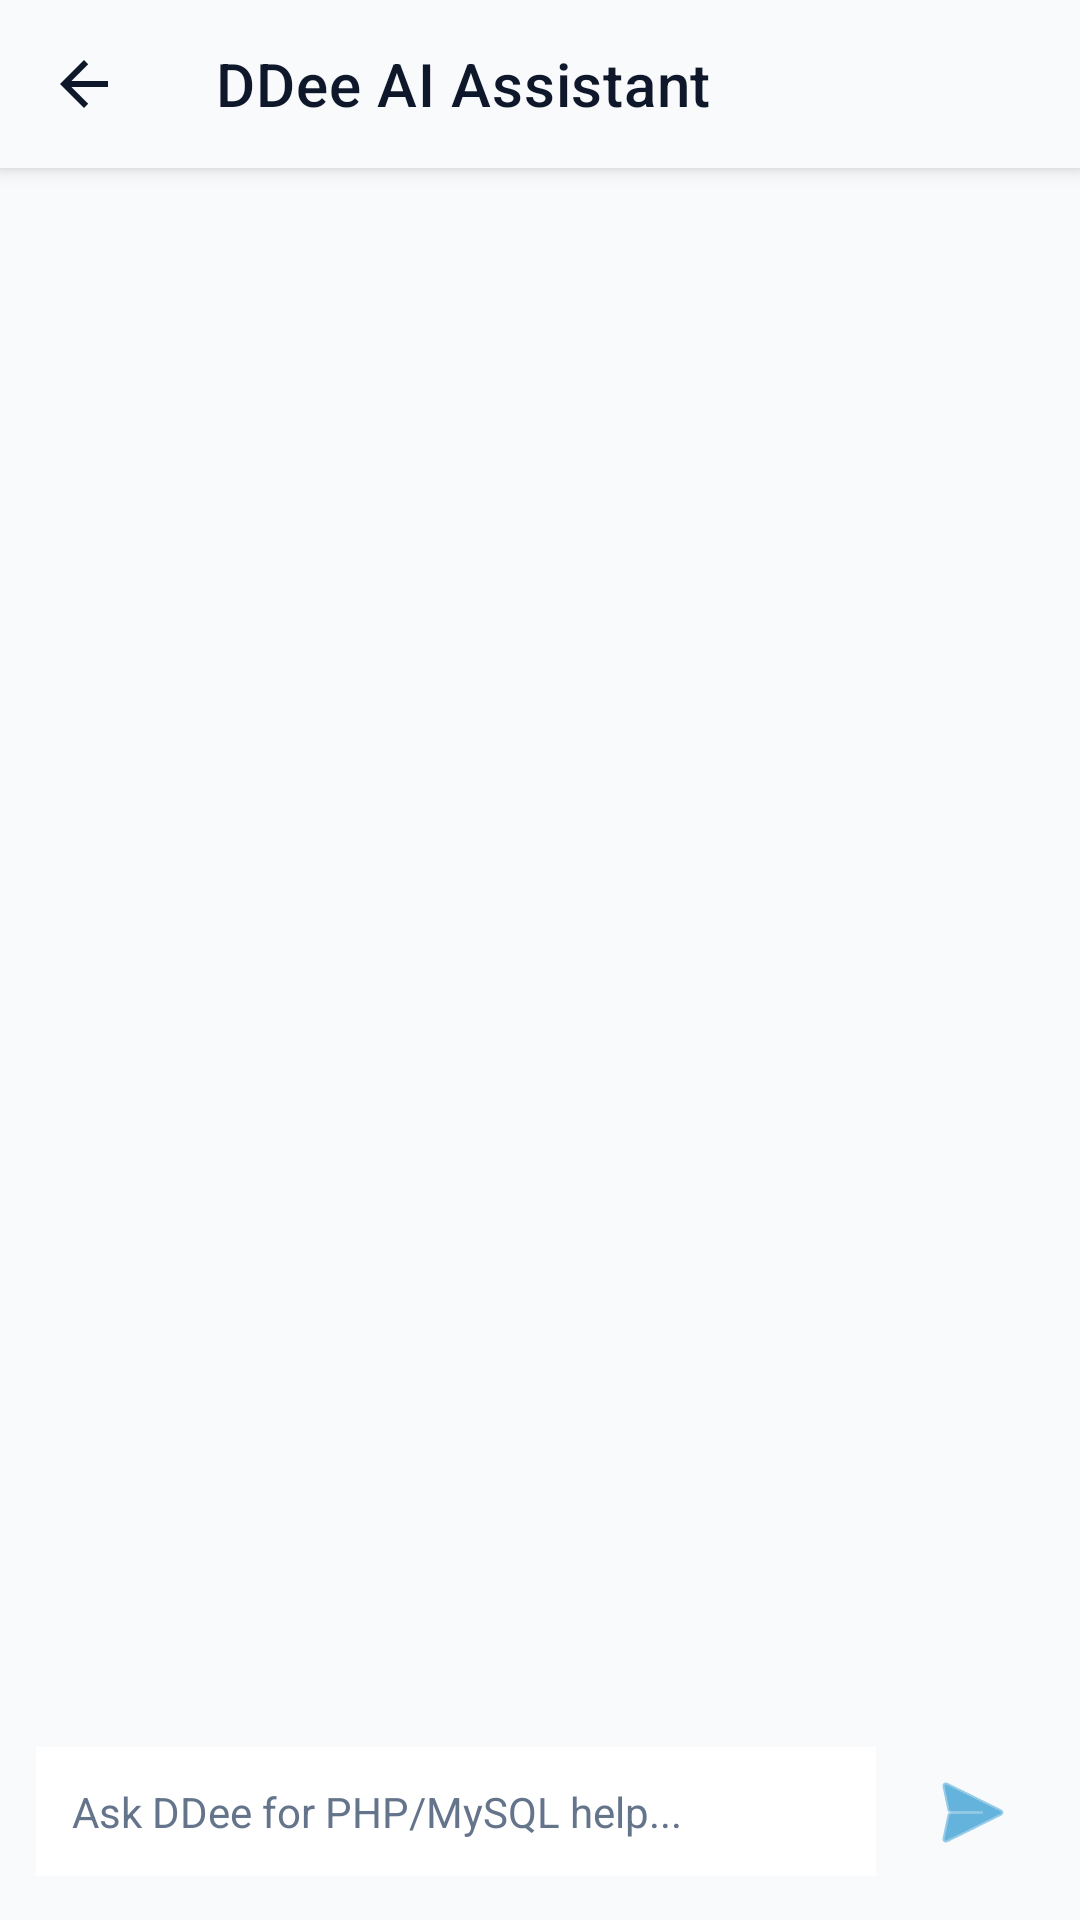

Icons on this 1080×1920 Android screen, each with its box as (x1, y1, x2, y2):
Send Message: (942, 1782, 1004, 1843)
